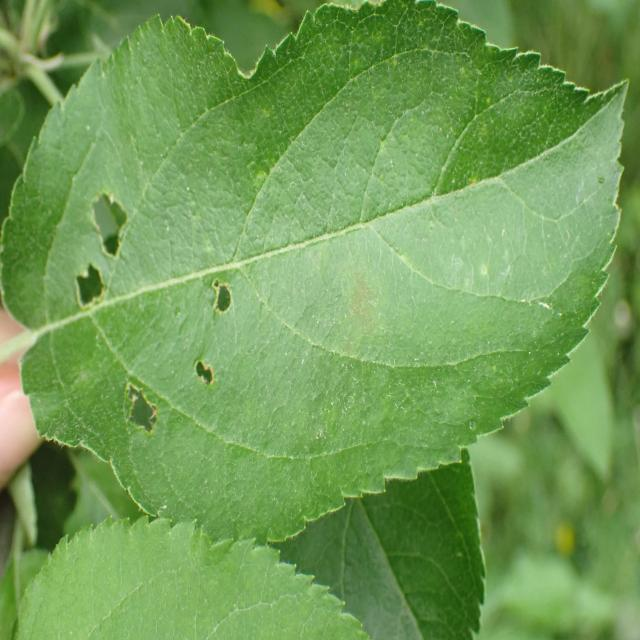scab: (235, 90, 524, 430)
